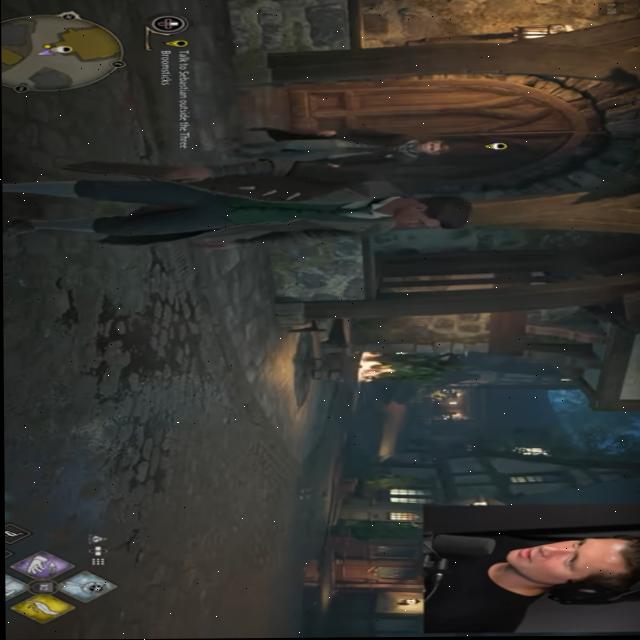compass: (47, 46, 73, 54), (163, 40, 187, 48), (483, 144, 507, 151)
